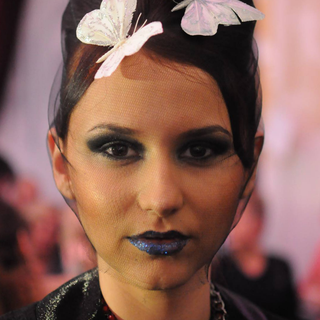eye: (88, 134, 145, 166), (174, 138, 224, 166)
